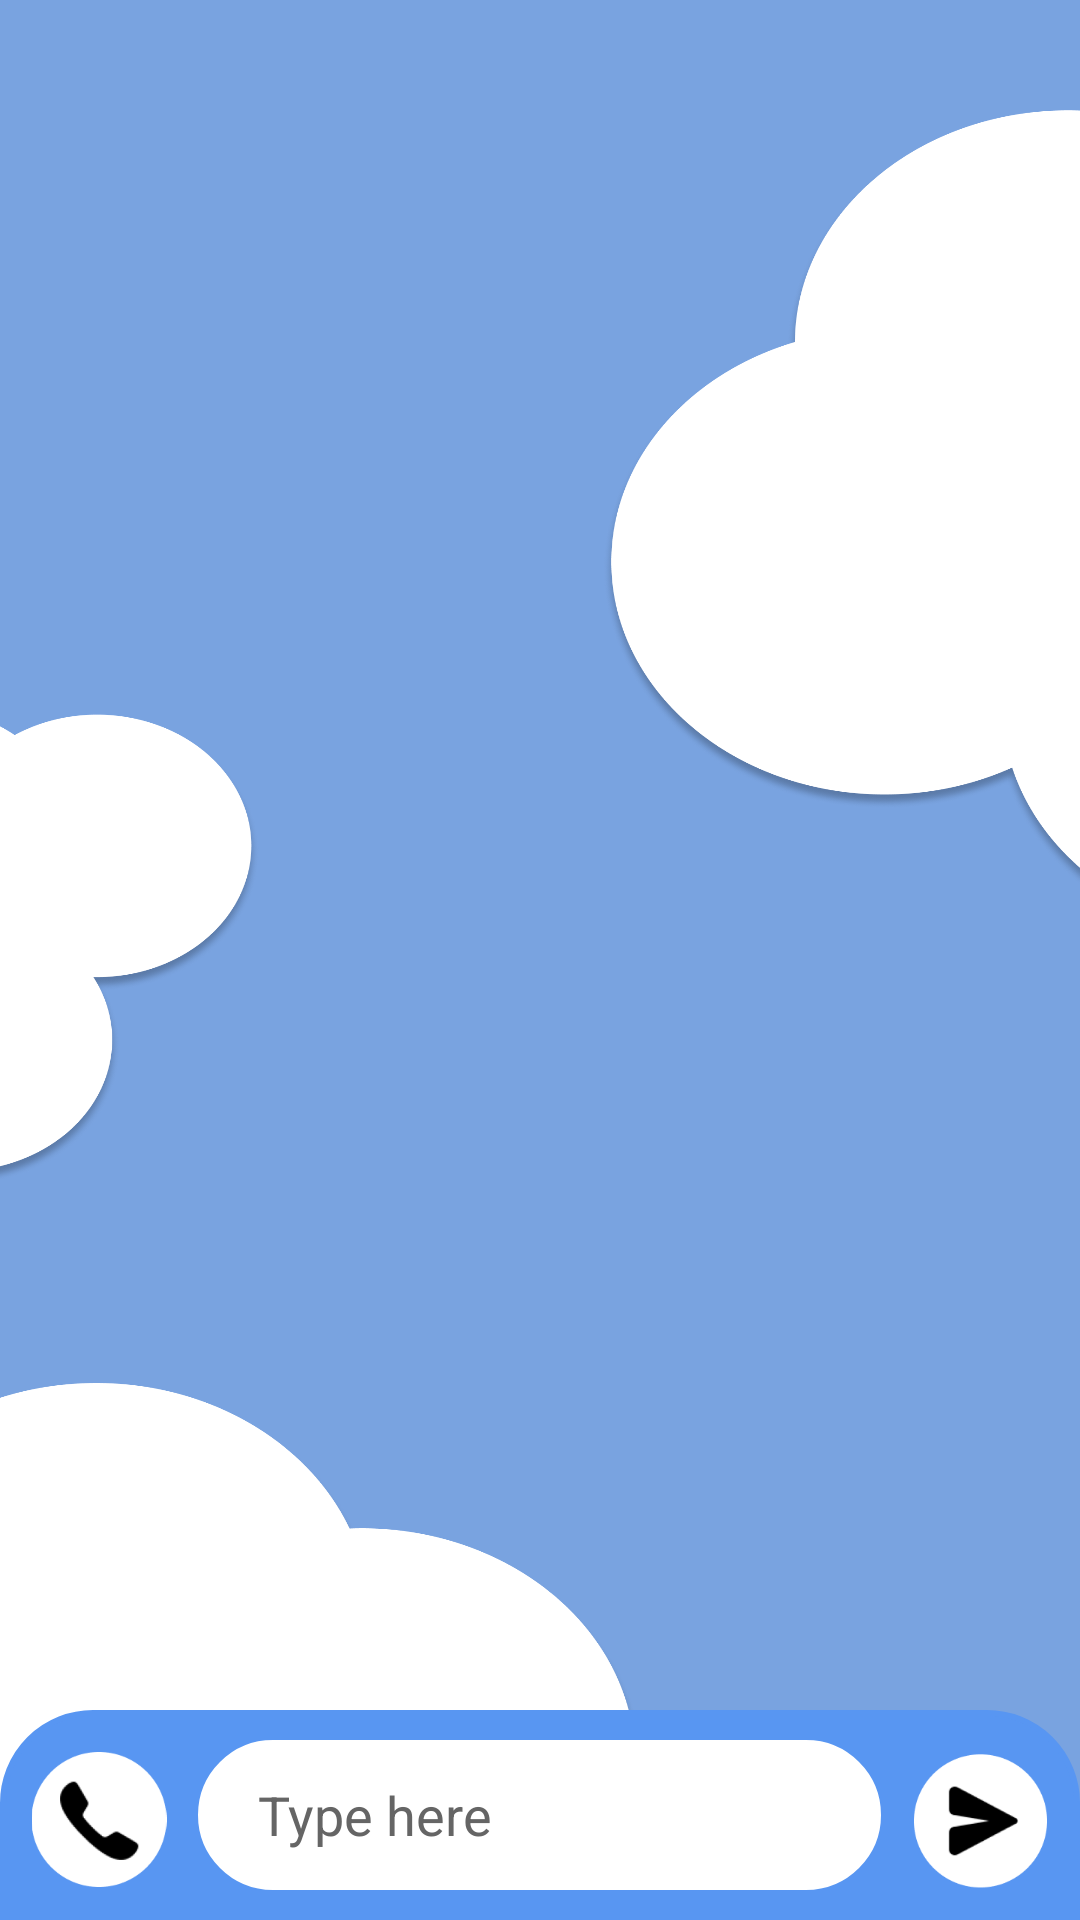

Icon click points for this 1080px×1920px phone screenshot, format (x=x, y=y):
call: (x=99, y=1815)
send: (x=980, y=1815)
